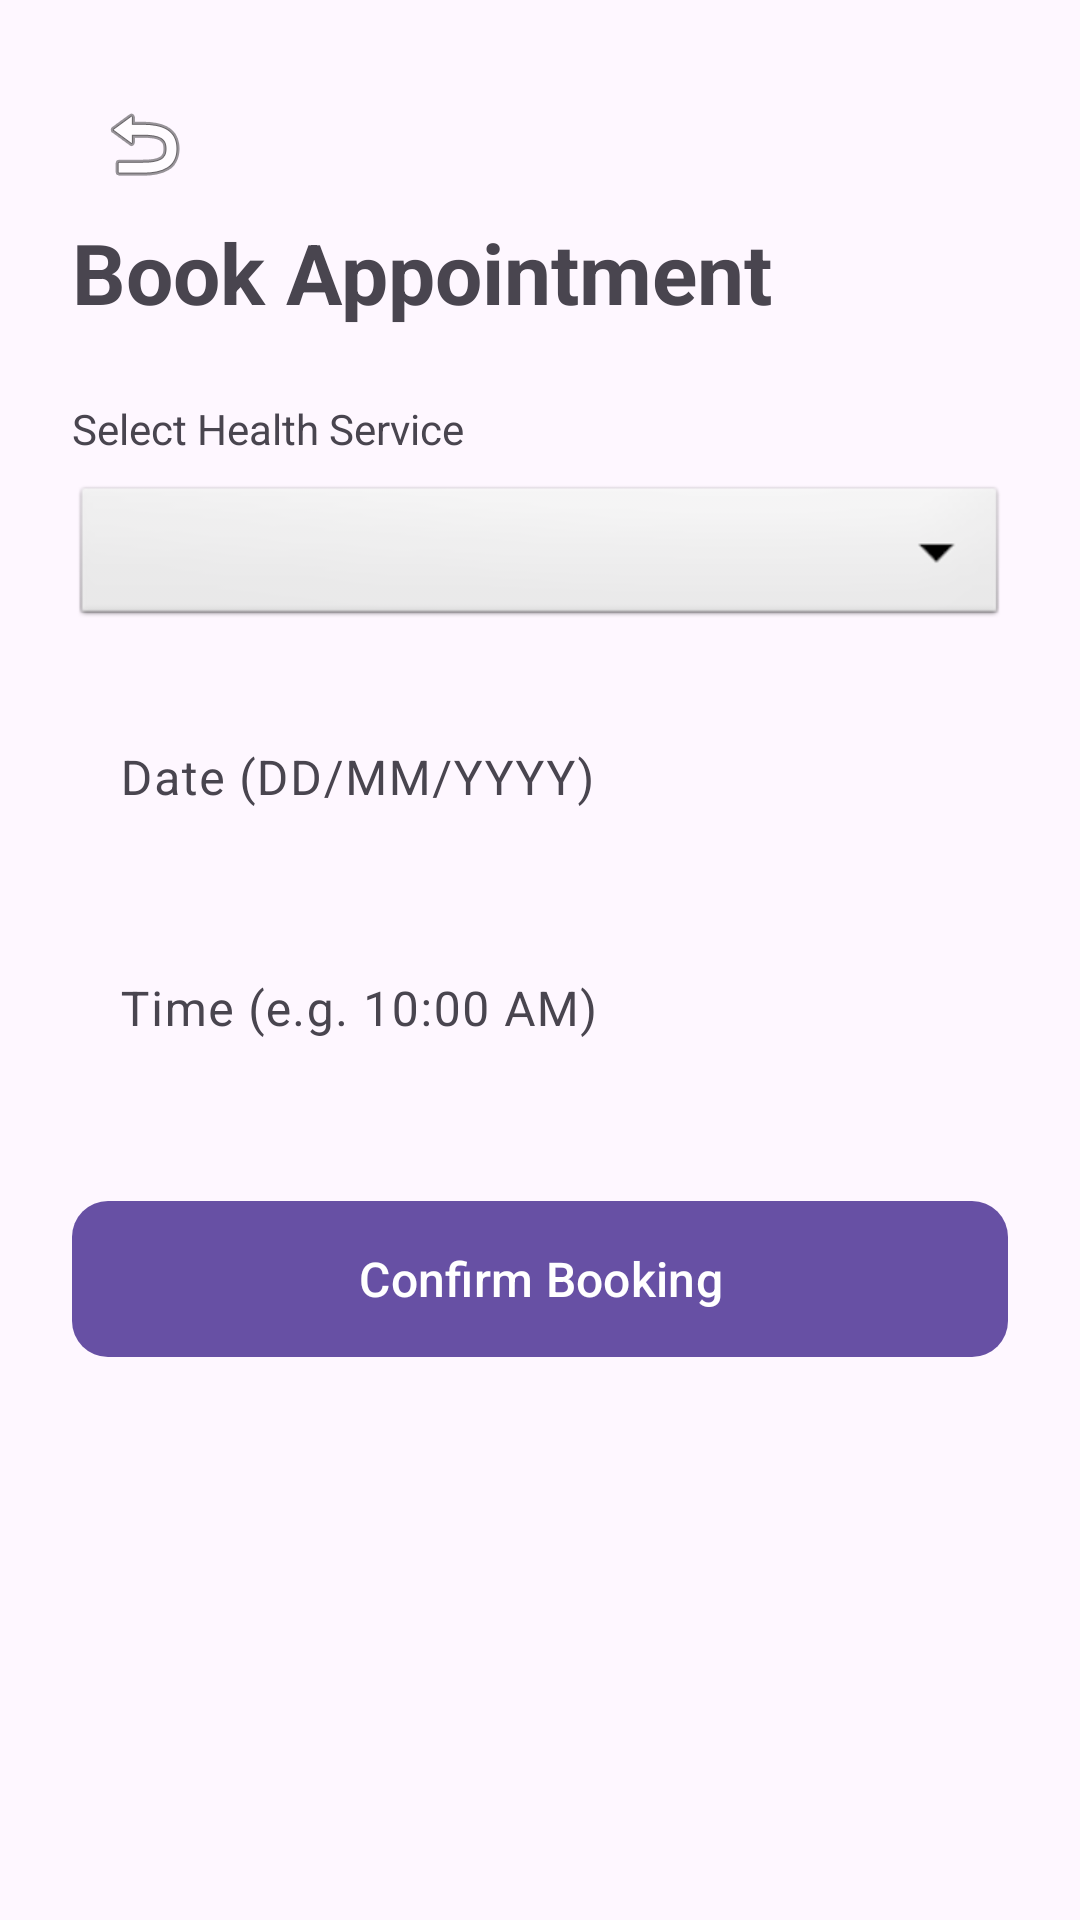

Where icons sit on this 1080*1920 app screen, as box=[x1, y1, x2, y2]:
Go Back: box=[111, 113, 180, 176]
